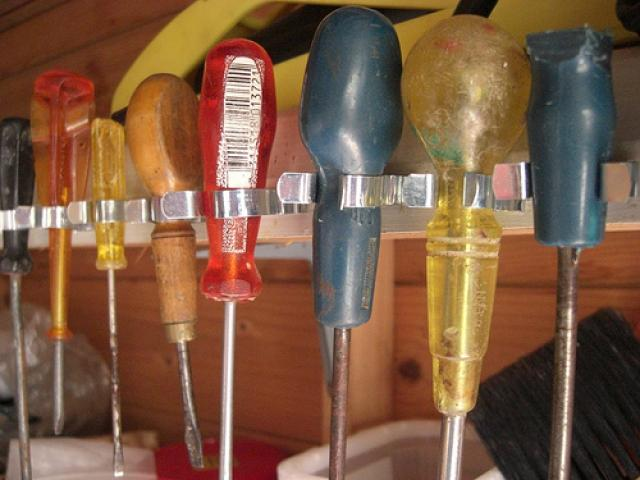Screwdriver: (401, 16, 531, 478), (300, 6, 402, 478), (528, 28, 615, 478), (199, 39, 276, 478), (129, 73, 202, 468), (31, 70, 95, 434), (0, 118, 35, 478), (91, 119, 126, 476)
